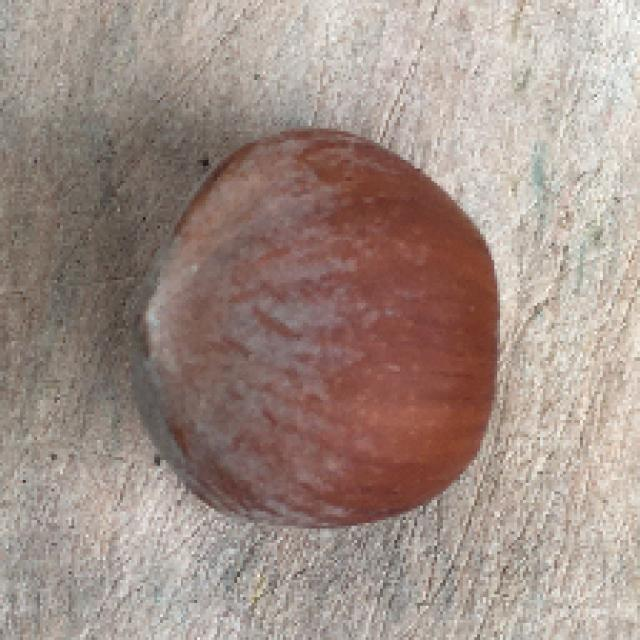qualityHazelnut: (118, 125, 501, 531)
